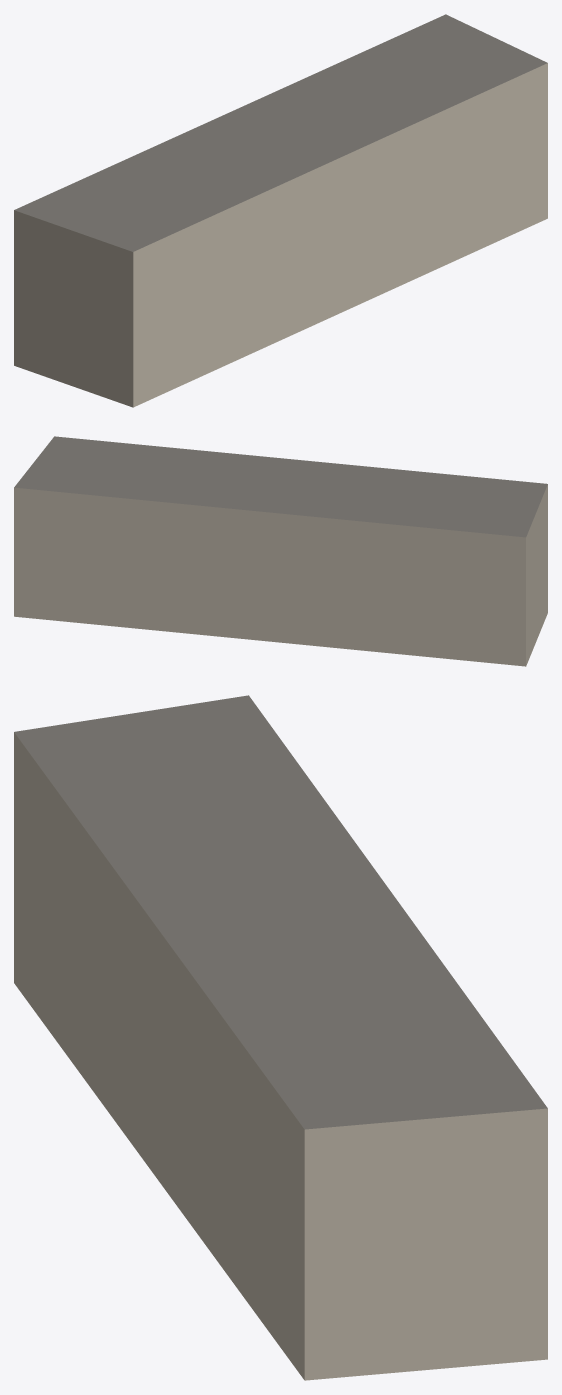
The picture shows the model from 3 angles, top to bottom: view 1: azimuth 30°, elevation 25°; view 2: azimuth 150°, elevation 25°; view 3: azimuth 270°, elevation 25°; orthographic projection. The views are drawn at different scales.
Visible parts, largest first — view 1: HP-w1070642364; view 2: HP-w1070642364; view 3: HP-w1070642364.
Part boxes in pixels (left/top/right/bottom): HP-w1070642364: left=14, top=14, right=547, bottom=407; HP-w1070642364: left=14, top=436, right=547, bottom=666; HP-w1070642364: left=14, top=695, right=547, bottom=1380.
Bounding box in the file's own units: 66.75 × 18 × 34.69.
